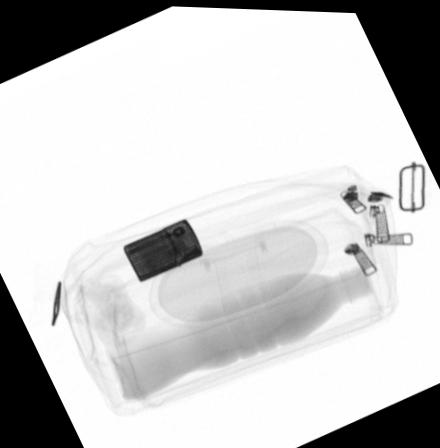Lighter: (121, 214, 203, 281)
